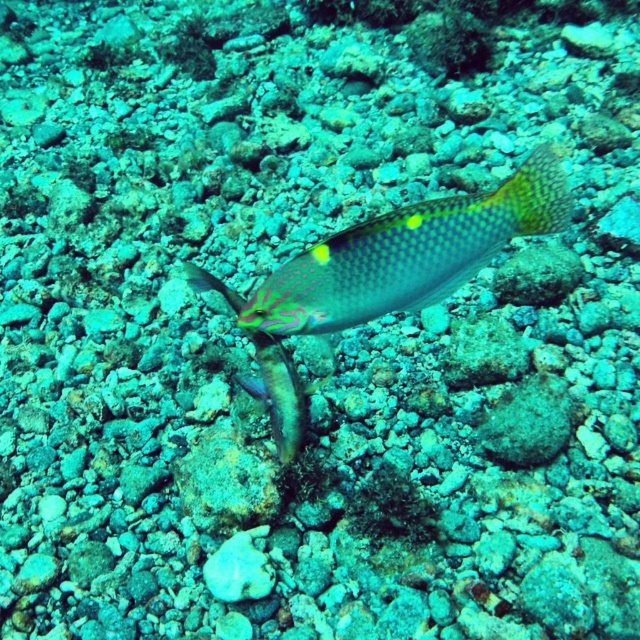Fish: (177, 133, 601, 390)
